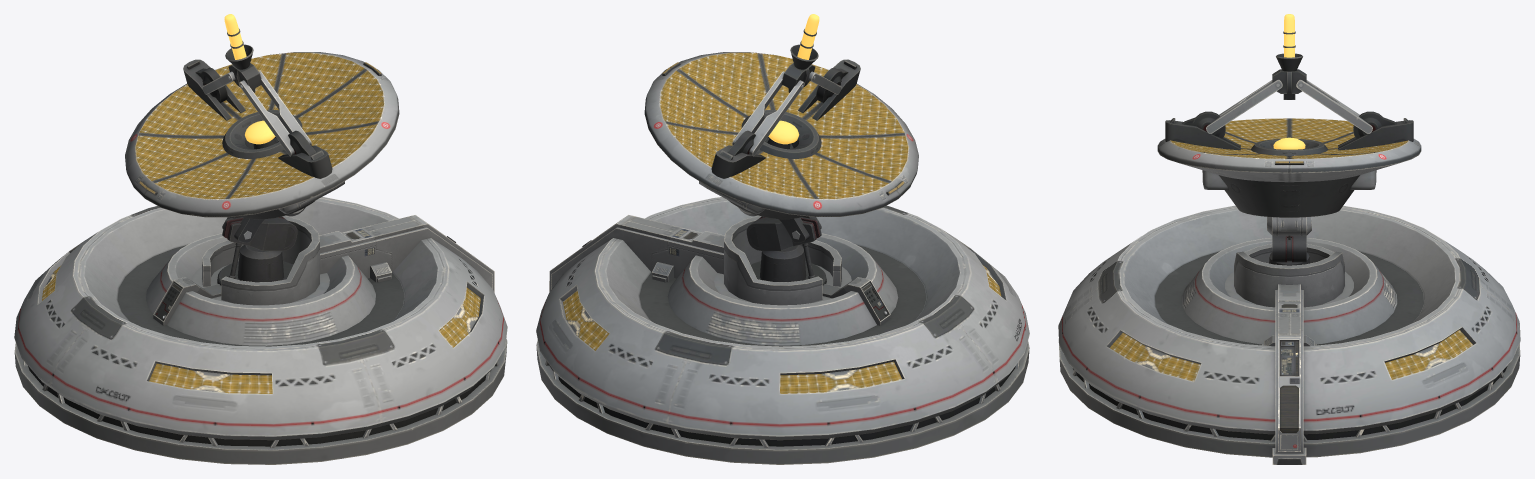
3 renders of one model, left to right at view 1: azimuth 30°, elevation 25°; view 2: azimuth 150°, elevation 25°; view 3: azimuth 270°, elevation 25°, orthographic. The views are drawn at different scales.
Visible parts, largest first — view 1: ST_Triangle; view 2: ST_Triangle; view 3: ST_Triangle.
Part boxes in pixels (x1,y1,x2,y2): ST_Triangle: (14,14,507,464); ST_Triangle: (536,14,1029,464); ST_Triangle: (1058,14,1520,464).
Size of the model in its own units: 3.4 by 2.61 by 3.29.
Materials: 3 (3 with a texture image).
